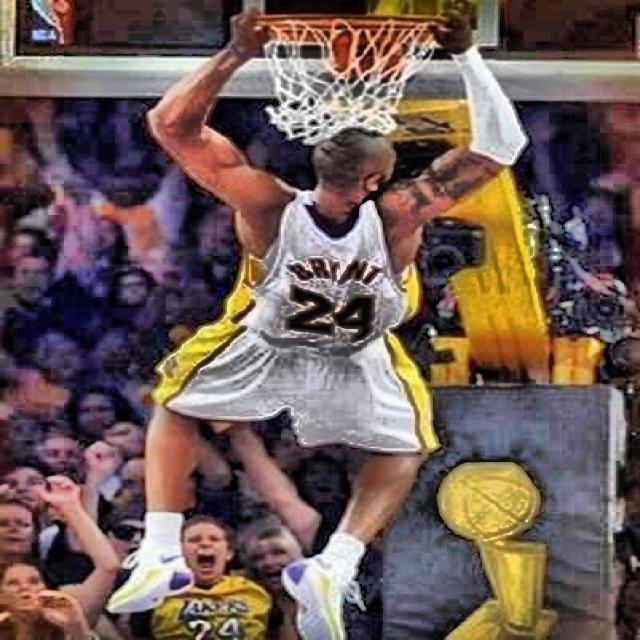rim: (255, 14, 446, 141)
